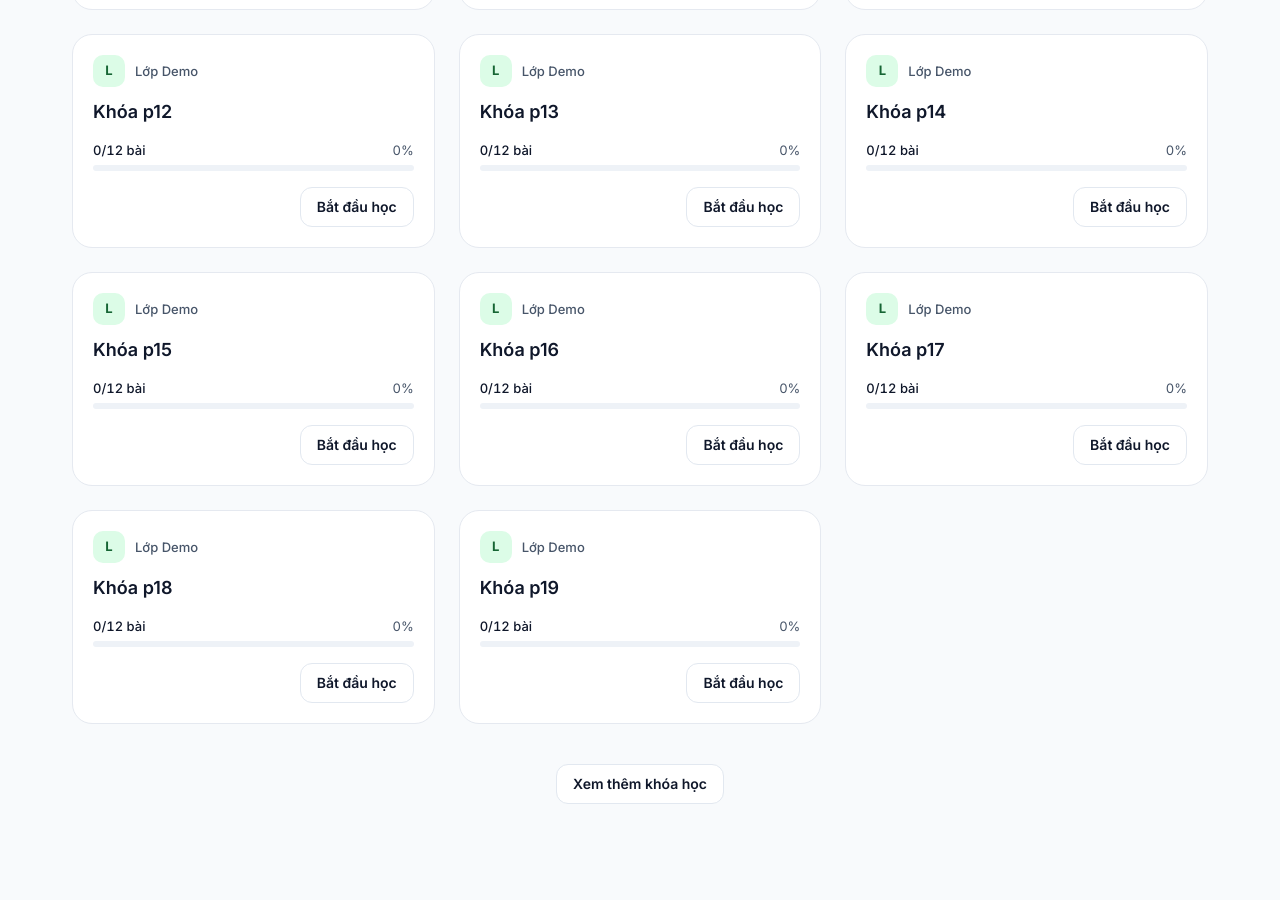
Scenario: MyCoursesPage › pages with "Xem thêm khóa học"
The image size is (1280, 900).
(page scrolled)
Click the button "Xem thêm khóa học" at coordinates (640, 784), box [556, 764, 724, 804]
(page scrolled)
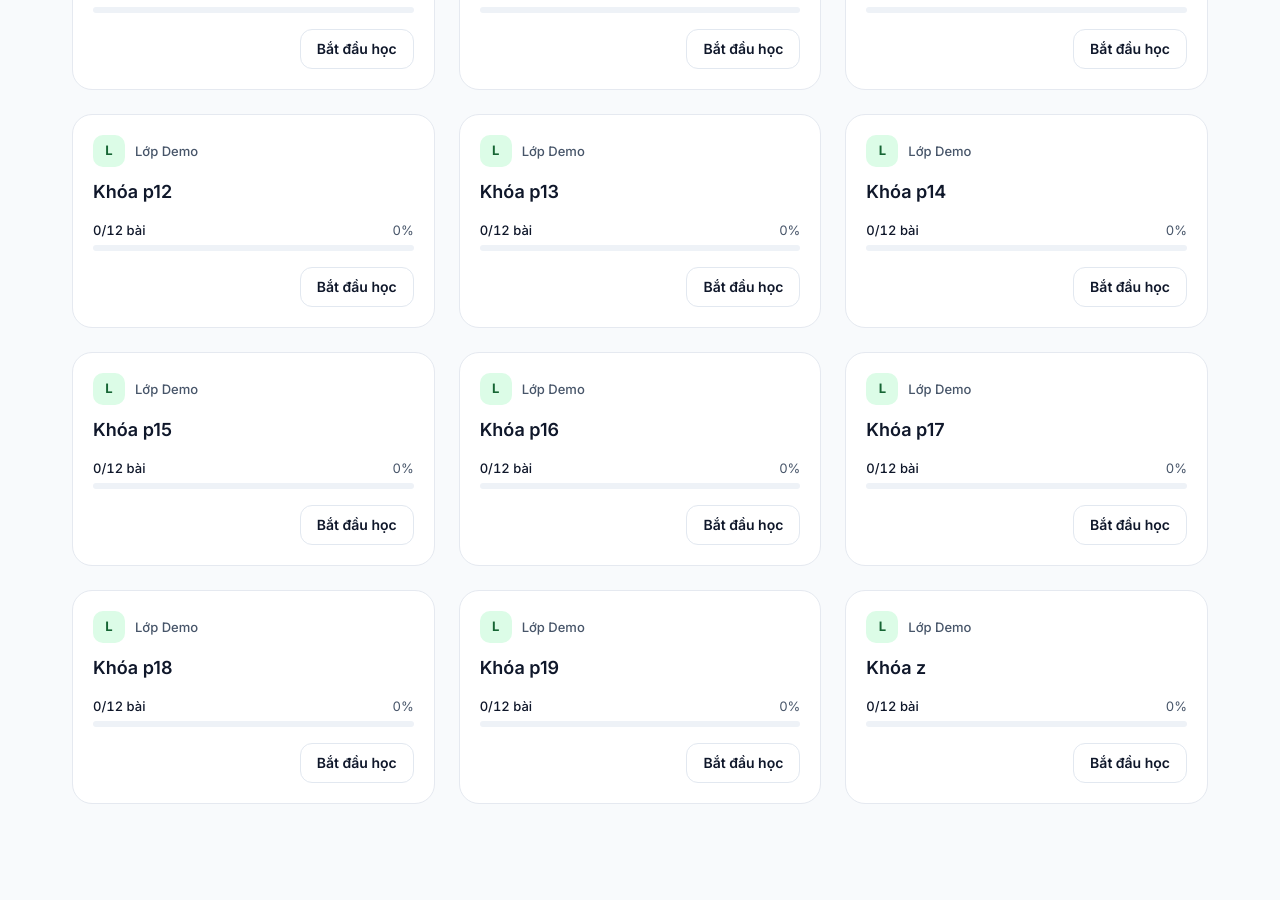
Check: the heading "Khóa z" is shown, box [866, 657, 926, 678]
Check: the button "Xem thêm khóa học" is gone
